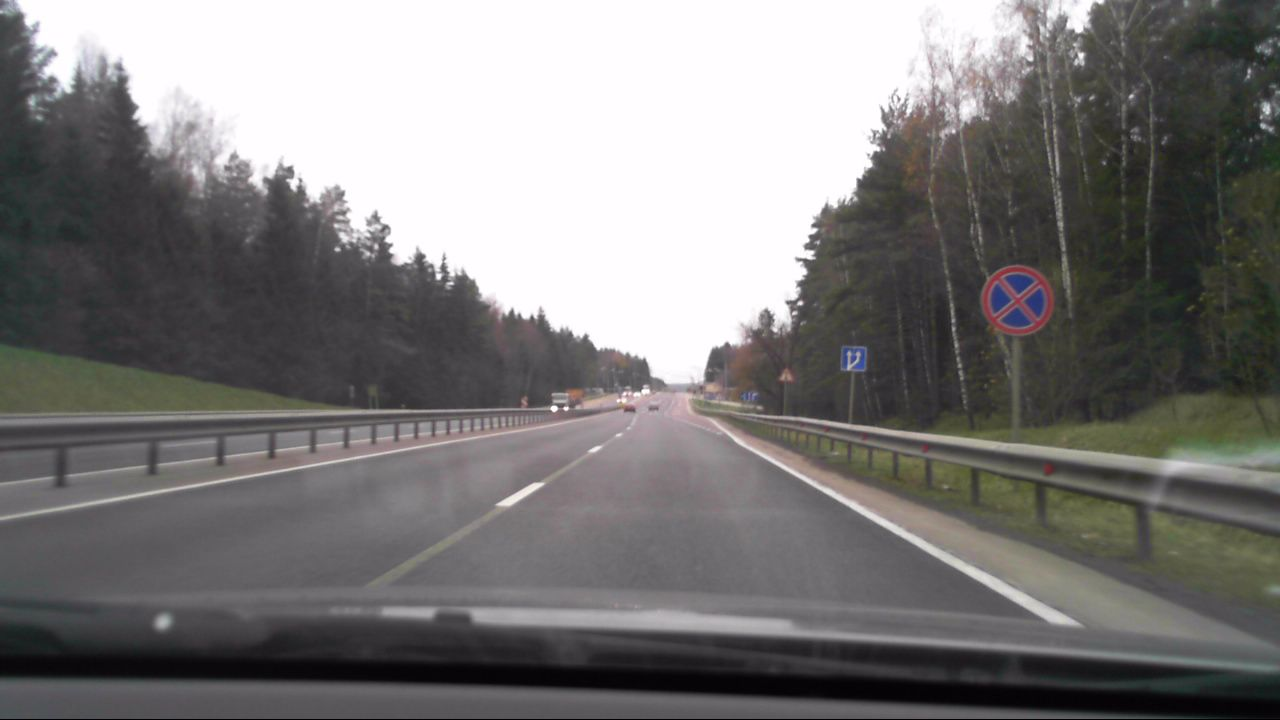No Parking: (979, 264, 1054, 337)
